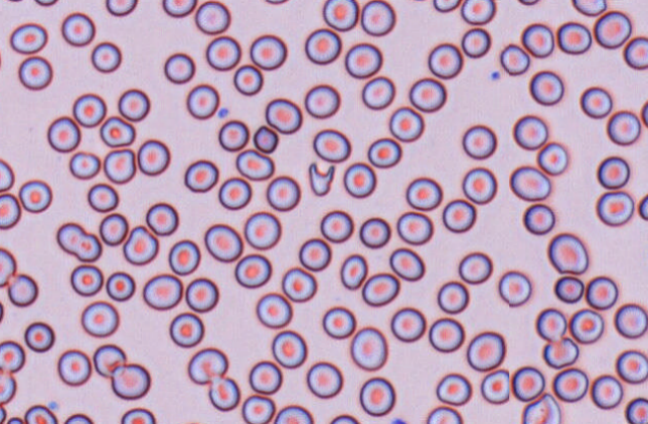PLT: (389, 416, 408, 424), (217, 107, 229, 119), (491, 69, 501, 80)
RBC: (56, 222, 101, 262), (547, 232, 588, 274), (349, 326, 387, 371), (466, 330, 505, 371), (110, 362, 151, 400), (593, 10, 632, 49), (187, 347, 228, 384), (142, 273, 183, 310), (509, 165, 551, 201), (243, 211, 281, 250), (204, 223, 242, 262), (80, 300, 119, 337), (122, 225, 158, 265), (359, 376, 395, 416), (249, 33, 287, 70), (264, 97, 302, 134), (595, 190, 634, 226), (304, 27, 341, 64), (306, 361, 343, 398), (461, 166, 497, 204), (344, 42, 382, 78), (271, 329, 306, 368), (255, 292, 292, 328), (427, 42, 463, 79), (408, 77, 446, 112), (388, 106, 424, 142), (281, 266, 317, 302), (265, 175, 301, 211), (568, 308, 604, 344), (512, 114, 548, 150), (396, 210, 433, 245), (234, 253, 271, 288), (57, 348, 91, 386), (361, 272, 399, 306), (312, 128, 350, 162), (613, 302, 648, 338), (552, 367, 588, 402), (428, 317, 464, 352), (205, 35, 241, 70), (304, 83, 340, 118), (390, 306, 425, 342), (360, 0, 395, 36), (461, 124, 497, 159), (606, 109, 641, 145), (342, 161, 376, 198), (46, 115, 80, 152), (405, 176, 442, 210), (235, 148, 274, 180), (521, 392, 561, 423), (169, 312, 204, 347), (60, 11, 95, 46), (17, 55, 52, 90), (529, 70, 564, 105), (511, 365, 545, 401), (194, 0, 230, 34), (497, 270, 531, 306), (542, 336, 579, 369), (137, 138, 170, 175), (9, 22, 47, 54), (442, 198, 476, 233), (389, 247, 424, 281), (361, 75, 395, 110), (185, 277, 219, 312), (72, 92, 106, 127), (520, 22, 554, 57), (207, 375, 240, 411), (435, 372, 471, 405), (186, 83, 219, 119), (103, 148, 136, 184), (556, 21, 592, 54), (92, 343, 126, 377), (248, 360, 282, 394), (321, 305, 355, 339), (319, 209, 353, 243), (18, 179, 52, 213), (596, 155, 630, 189), (590, 374, 623, 409), (615, 349, 648, 384), (168, 239, 200, 275), (99, 115, 135, 147), (436, 280, 469, 314), (218, 176, 251, 210), (298, 237, 331, 271), (458, 251, 492, 284), (184, 159, 218, 192), (585, 275, 618, 309), (535, 307, 567, 342), (322, 0, 358, 31), (117, 88, 150, 121), (145, 202, 178, 235), (579, 85, 612, 118), (536, 141, 568, 175), (70, 264, 103, 296), (522, 203, 555, 235), (367, 137, 401, 168), (480, 369, 510, 404), (163, 52, 195, 84), (7, 273, 38, 306), (98, 212, 128, 246), (339, 253, 367, 289), (499, 43, 530, 75), (218, 119, 249, 151), (90, 41, 121, 73), (359, 216, 390, 248), (241, 394, 275, 423), (460, 27, 491, 58), (233, 64, 263, 96), (87, 182, 118, 212), (24, 321, 54, 352), (68, 150, 100, 179), (105, 271, 135, 301), (460, 0, 495, 25), (553, 275, 584, 303), (623, 35, 648, 69), (0, 340, 25, 372), (0, 192, 21, 229), (273, 404, 313, 423), (252, 124, 278, 153), (425, 405, 462, 423), (24, 404, 57, 424), (0, 246, 16, 287), (624, 397, 648, 423), (120, 407, 155, 424), (162, 0, 196, 17), (0, 368, 16, 404), (571, 0, 606, 16), (105, 0, 138, 16), (0, 157, 14, 192), (63, 412, 94, 424), (432, 0, 461, 12), (329, 413, 359, 423), (638, 192, 648, 220), (640, 97, 648, 127), (33, 0, 59, 6), (262, 0, 291, 5), (6, 416, 24, 424), (516, 0, 542, 5), (644, 241, 648, 270), (0, 404, 6, 423), (0, 298, 4, 324), (177, 421, 208, 424), (0, 40, 2, 74), (2, 0, 26, 2), (404, 0, 431, 1)
Schistocyte: (307, 161, 337, 198)
